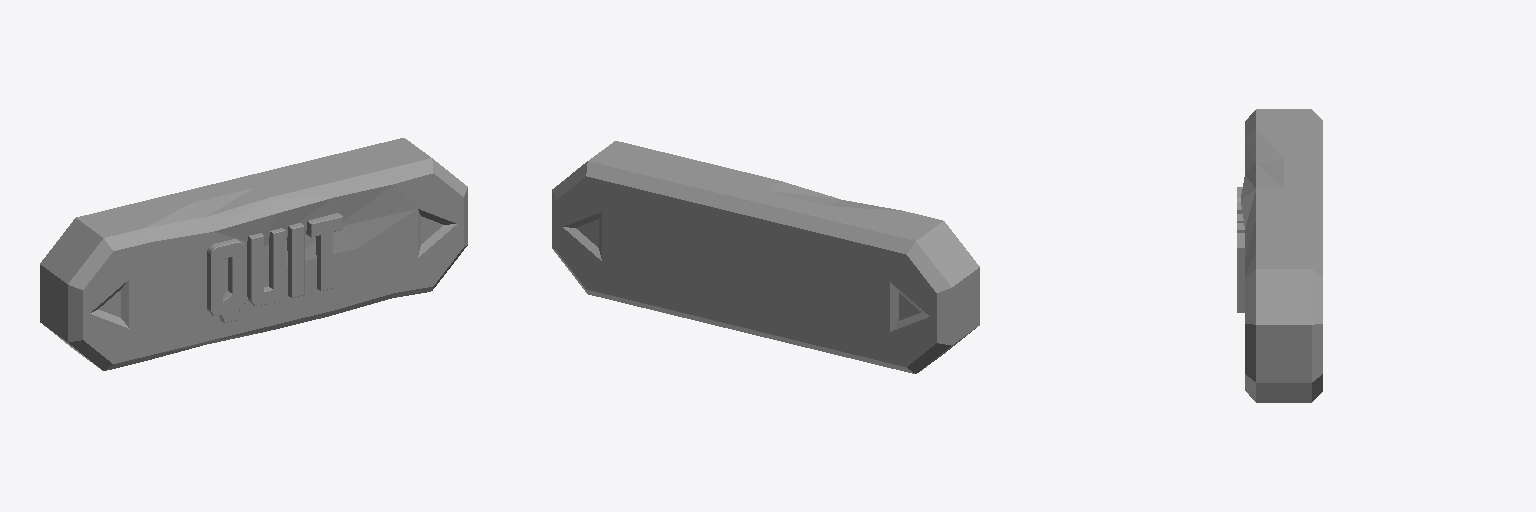
Rendered from Quit.obj.
3 views of the same model, side by side, from view 1: azimuth 30°, elevation 25°; view 2: azimuth 150°, elevation 25°; view 3: azimuth 270°, elevation 25° (orthographic).
Visible parts, largest first — view 1: Text_CUText; view 2: Text_CUText; view 3: Text_CUText.
Boxes of the visible parts, x1,y1,x2,y2 form: Text_CUText: [40, 138, 467, 370]; Text_CUText: [552, 141, 979, 373]; Text_CUText: [1237, 109, 1322, 402].
Bounding box in the file's own units: 3.57 × 1.14 × 0.6709.